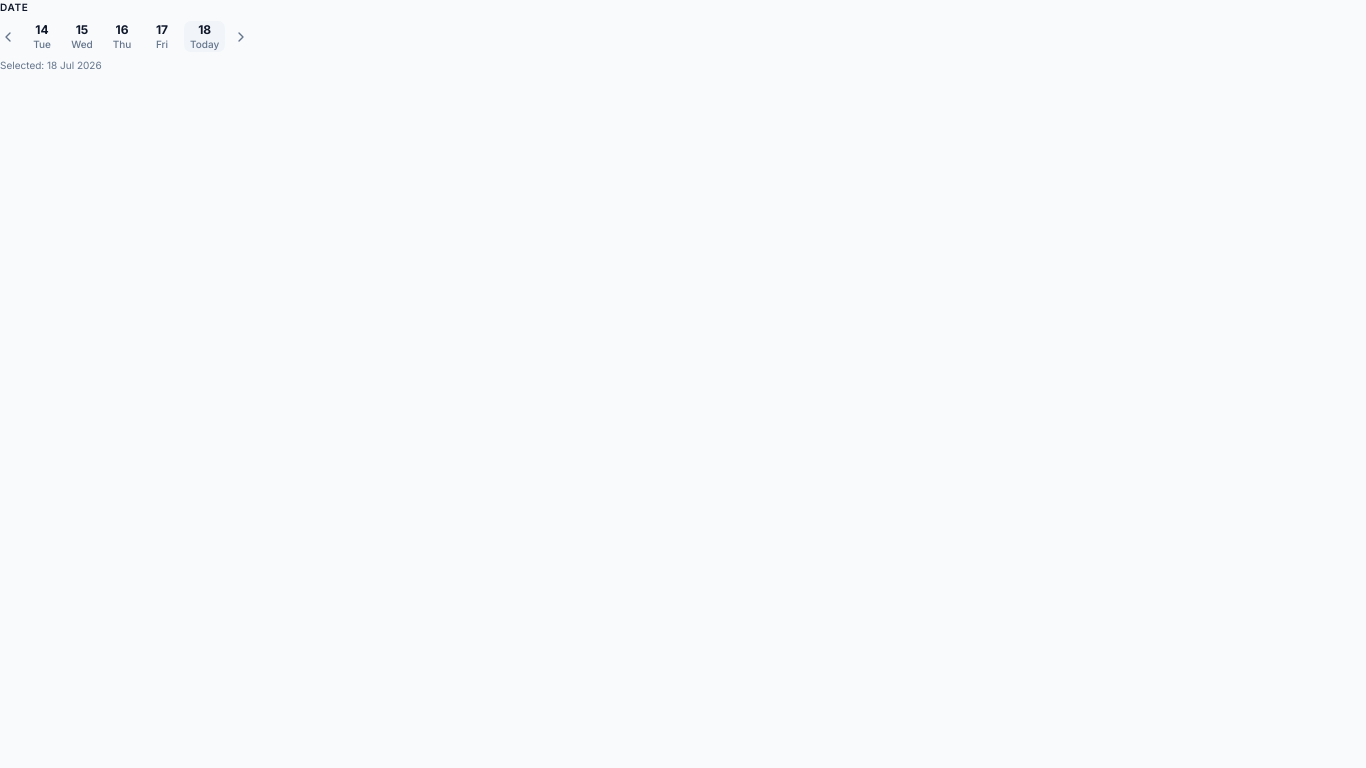
MiniDateStrip › falling back to the full picker beyond the recent window › opens the calendar instead of scrolling once the oldest day is already in view
Click the button named "show earlier days" at (8, 37), box [0,29,16,45]
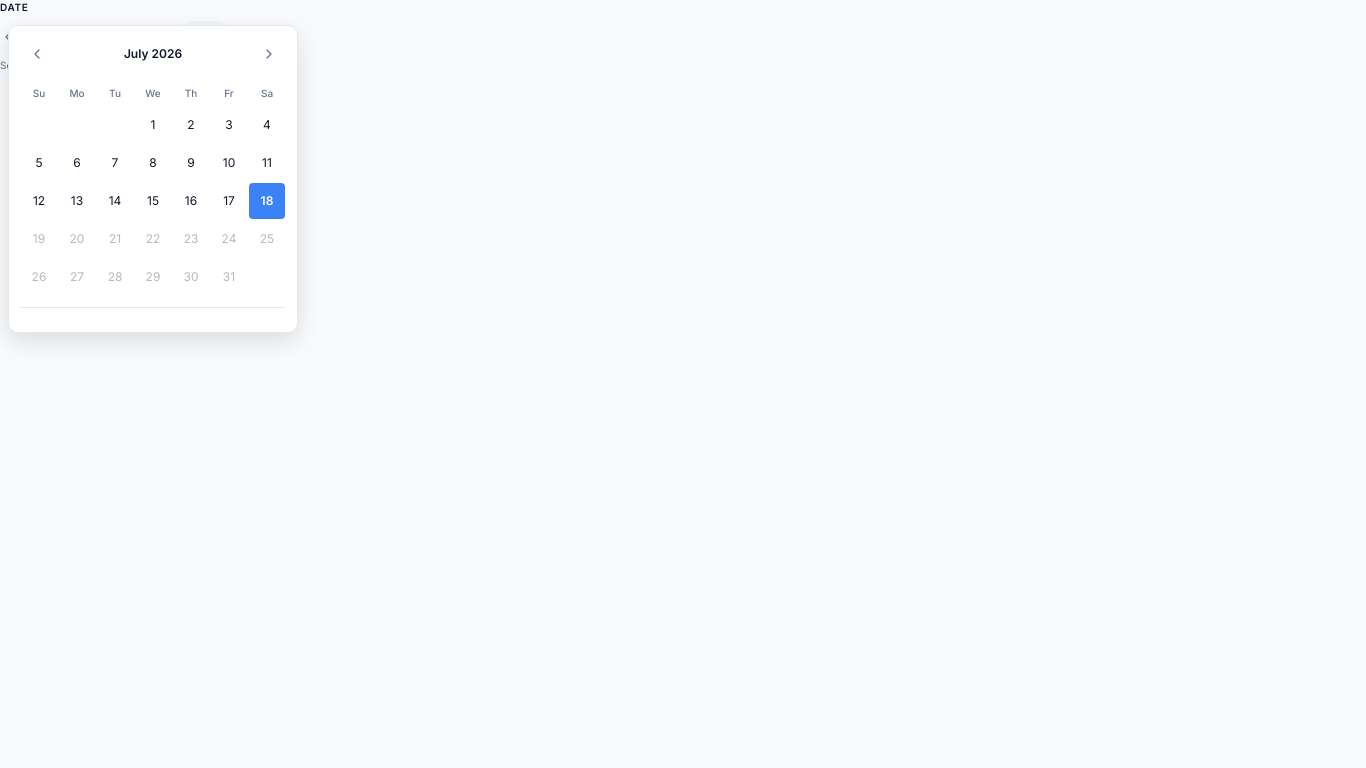
Expected: the table is shown, [21,82,285,295]
